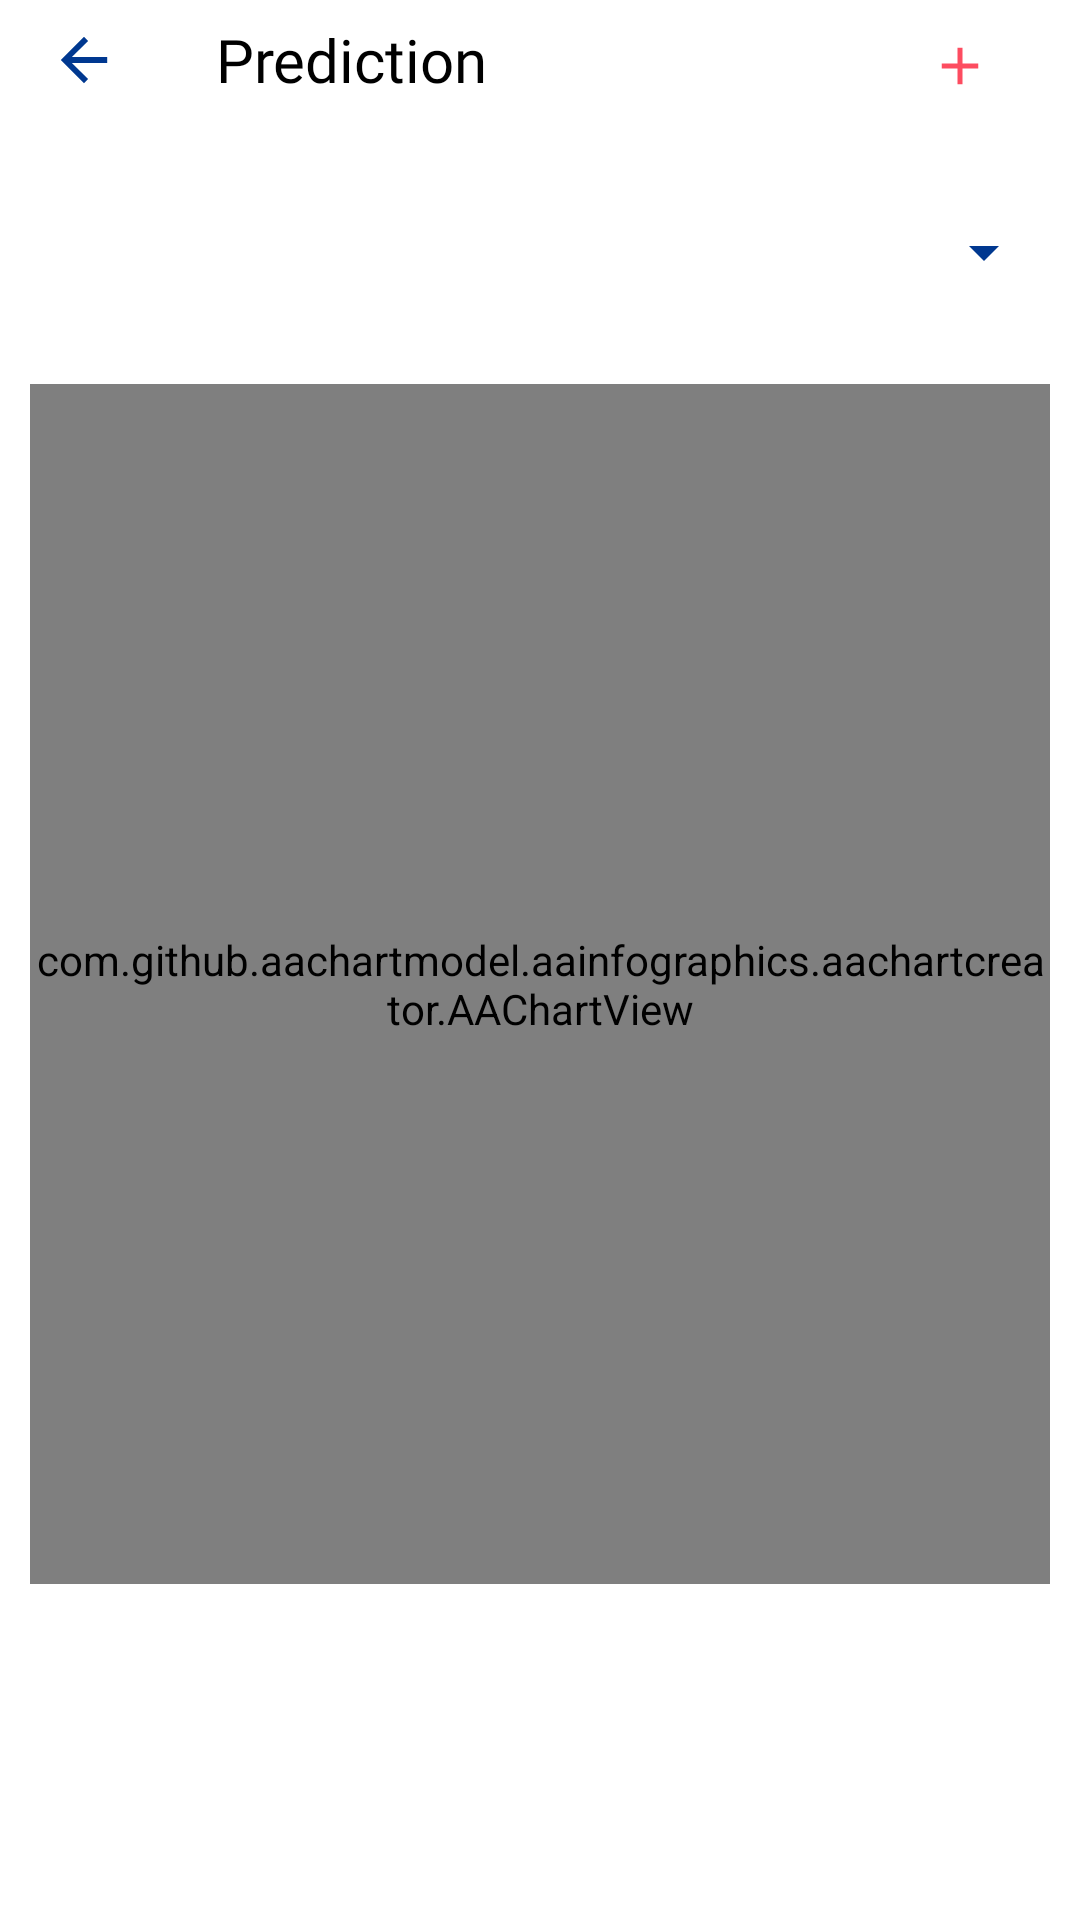

Point at icon controls on the screen. Image size 1080w x 1920h, points as (x=x, y=y).
plus: (x=960, y=66)
